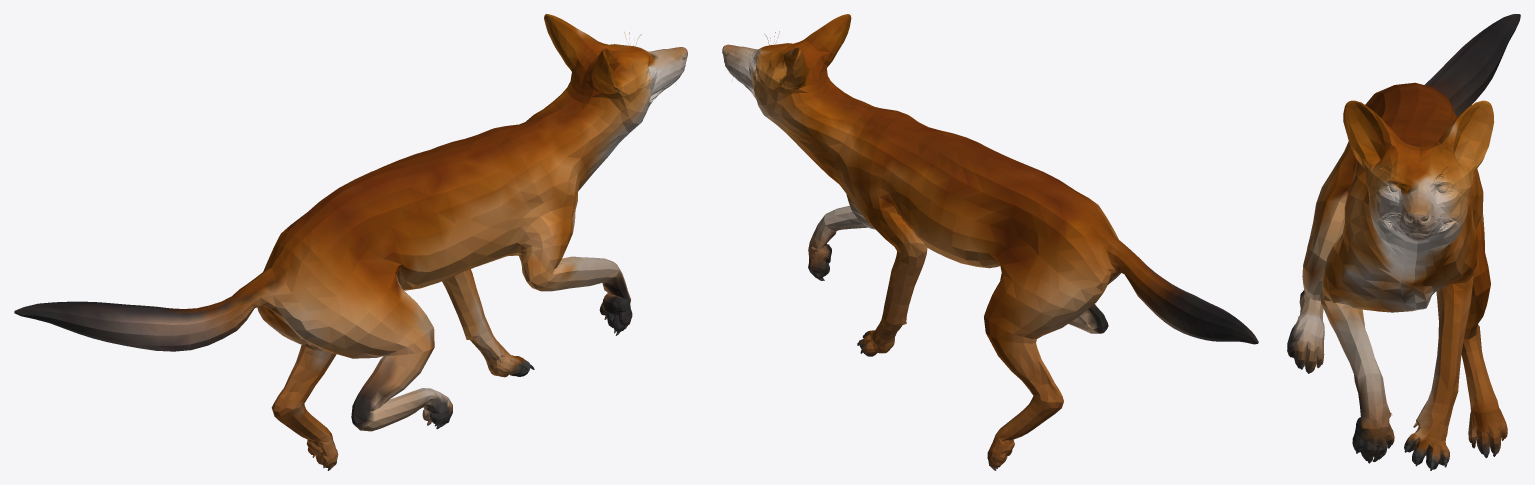
File: The_female_dhole_swims_and_then_stand_cc13c147b2da.mesh.glb
3 renders of one model, left to right at view 1: azimuth 30°, elevation 25°; view 2: azimuth 150°, elevation 25°; view 3: azimuth 270°, elevation 25°, orthographic. The views are drawn at different scales.
Parts seen in each view (by area): view 1: root; view 2: root; view 3: root.
Part boxes in pixels (x1,y1,x2,y2): root: (14, 14, 687, 470); root: (722, 14, 1258, 470); root: (1287, 14, 1520, 470).
Size of the model in its own units: 0.5716 by 0.3515 by 0.1528.
1 material, 1 textured.
